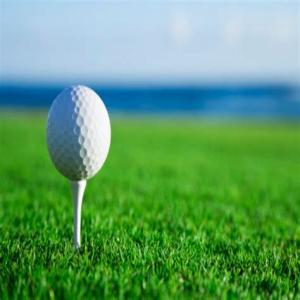Golf: (44, 86, 113, 182)
